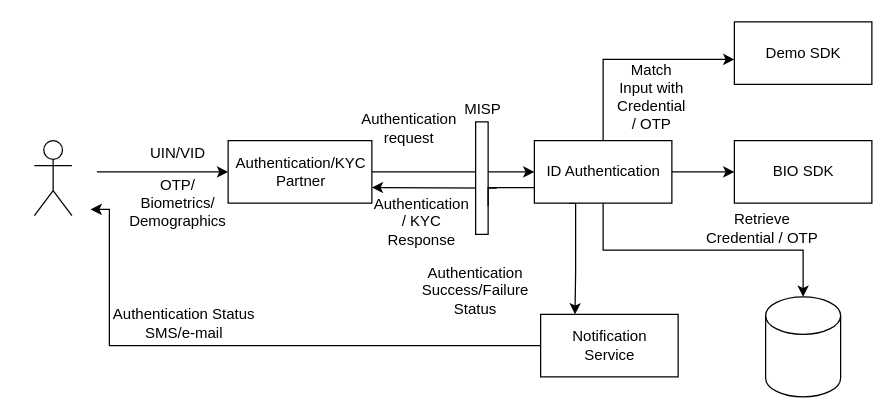
This 894x419 diagram has some shape labels left out. The box of each missing label's shape, as (x1, y1, x2, y2) in pixels:
IDA DB: (764, 296, 841, 397)
Individual: (33, 139, 72, 216)
